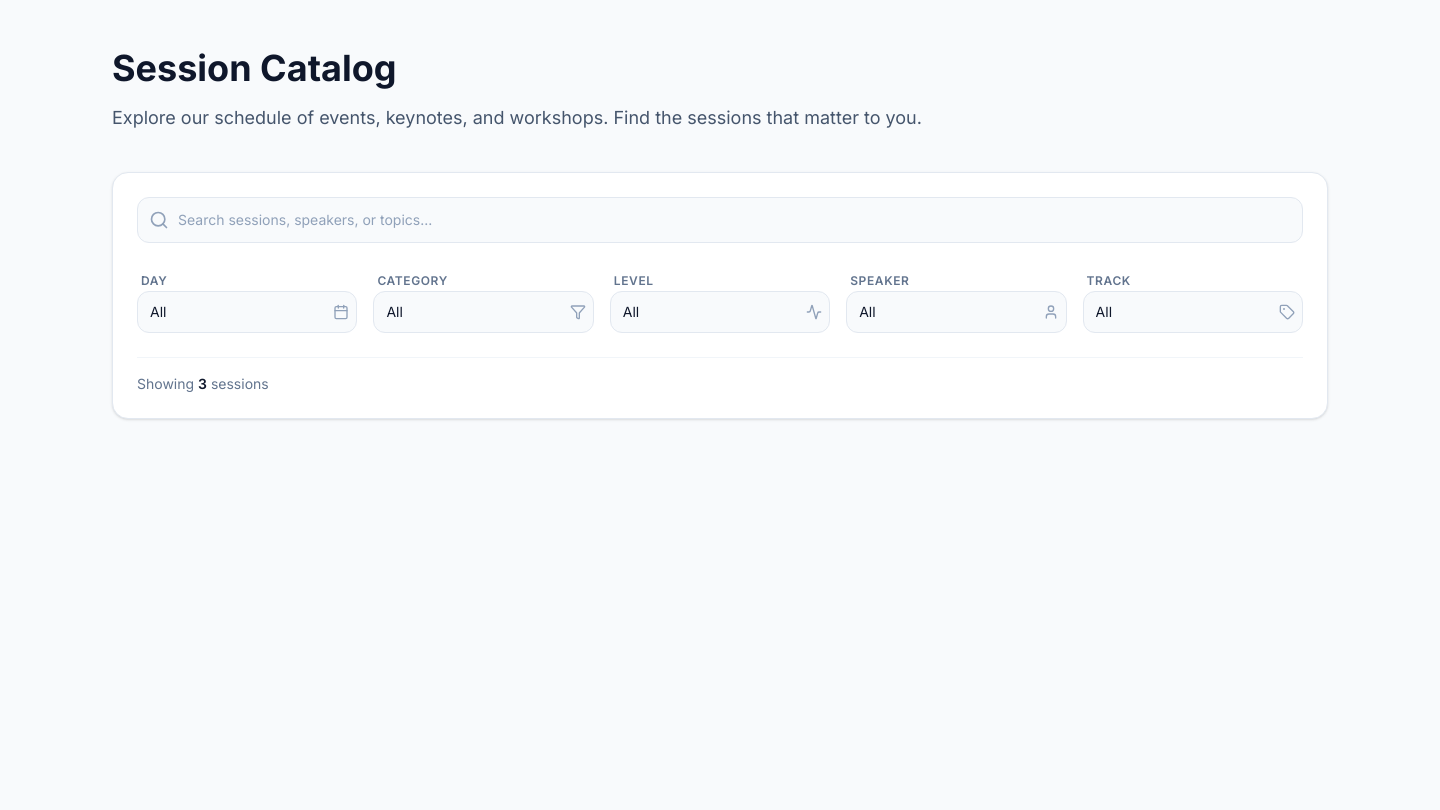
Test case: Catalog Page › clears all filters when clear button is clicked
In the field with placeholder "Search sessions, speakers, or topics...": (720, 220) 137,197 -> 1303,243, type "React"
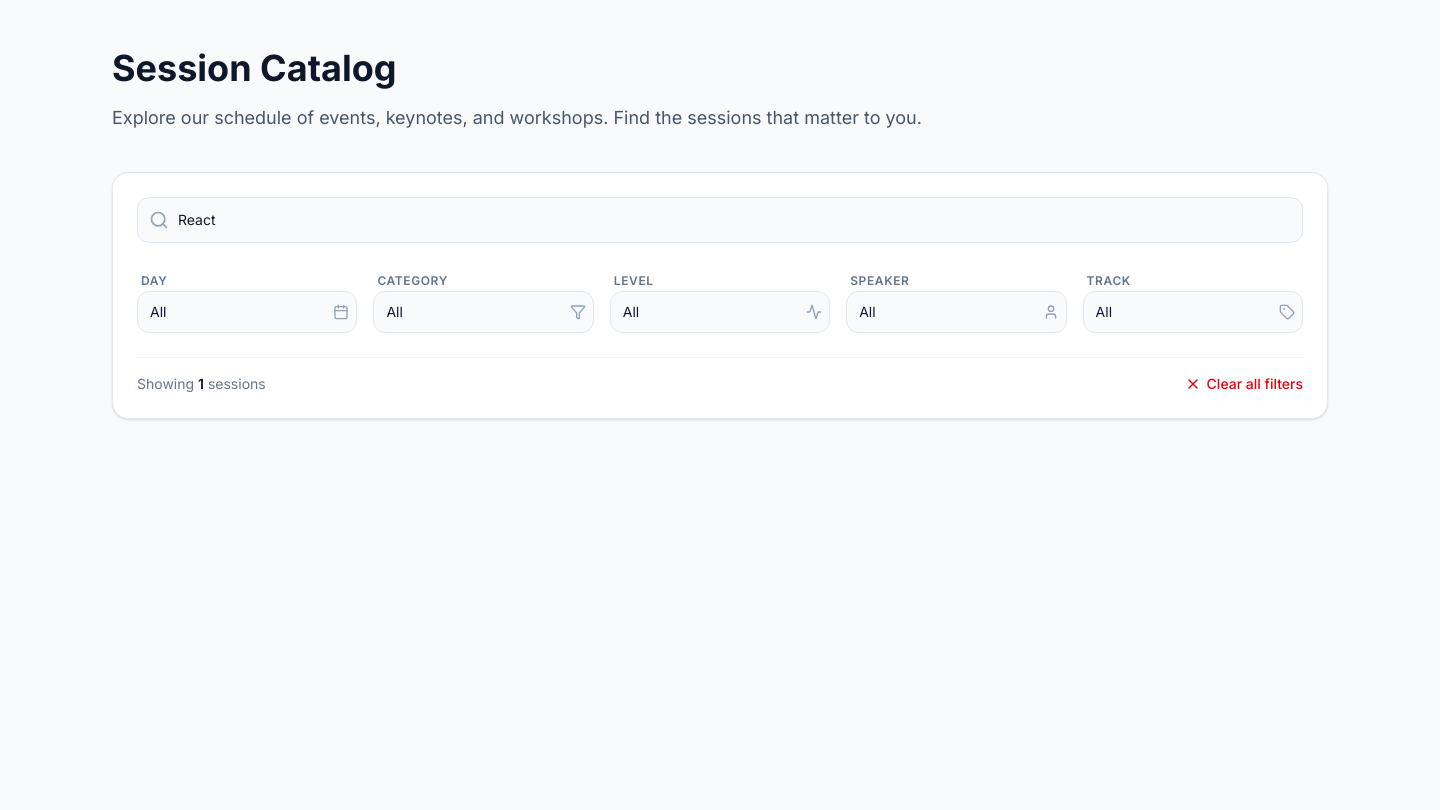
Click the button "Clear all filters": (1244, 384) 1185,374 -> 1303,394
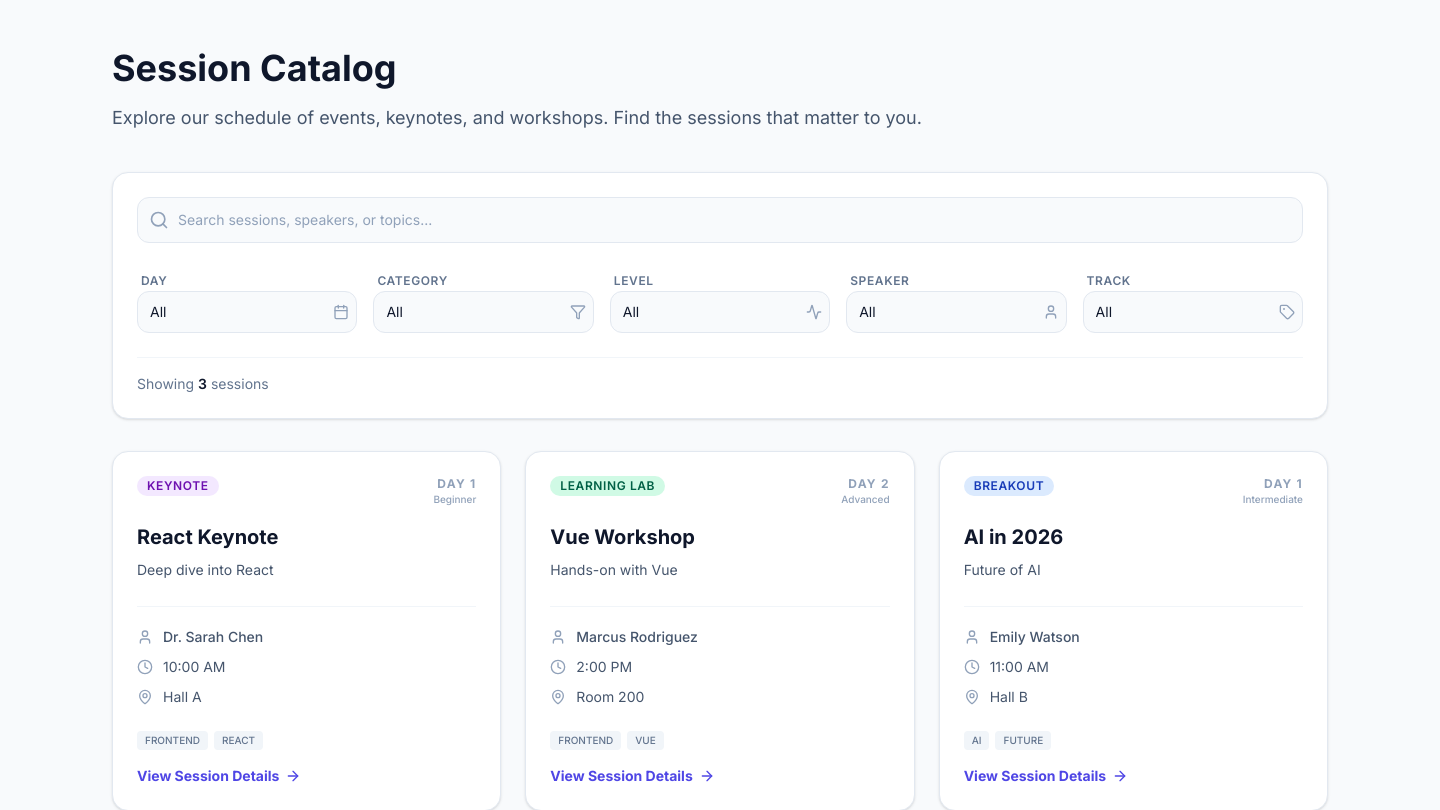
Check: the field with placeholder "Search sessions, speakers, or topics..." is empty, box 137,197 -> 1303,243
Check: the heading "Vue Workshop" is shown, box 550,525 -> 695,549
